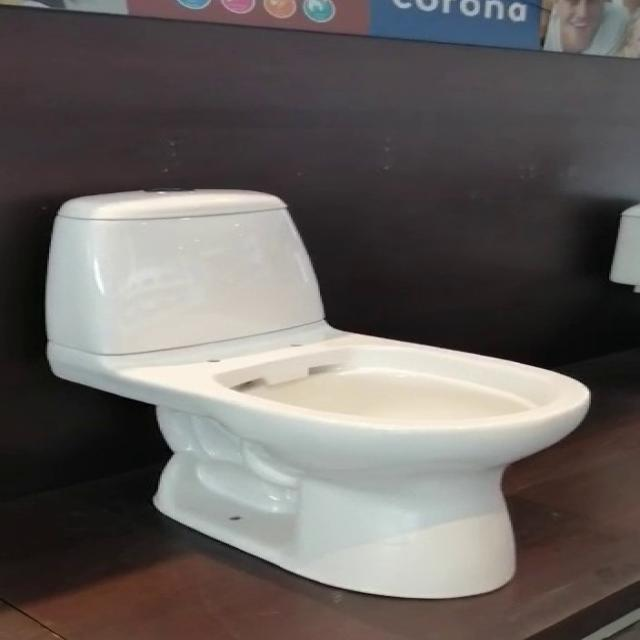toilet: (42, 187, 591, 599)
